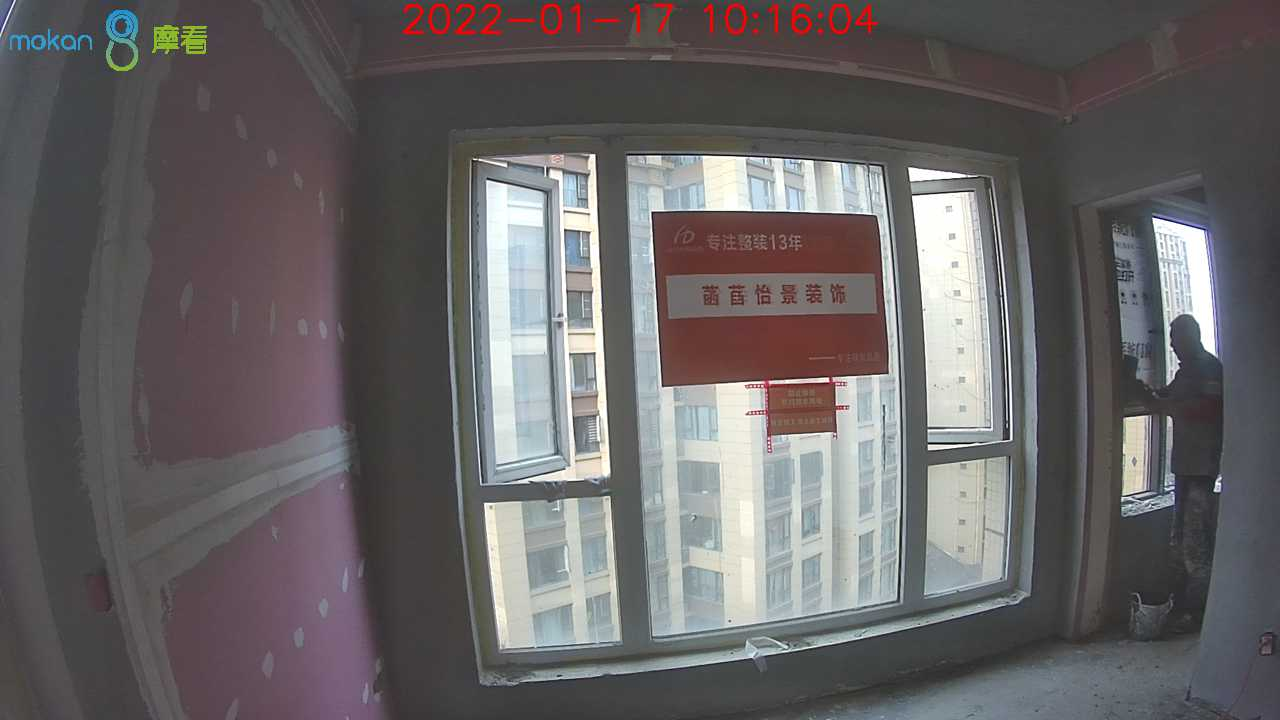people: (1138, 314, 1222, 634)
window: (472, 141, 1017, 654), (1114, 205, 1225, 517)
